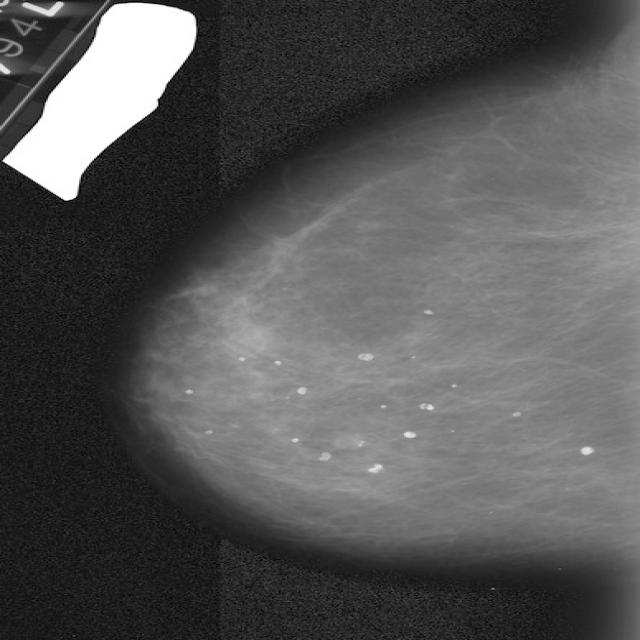tumour: (332, 435, 364, 450)
